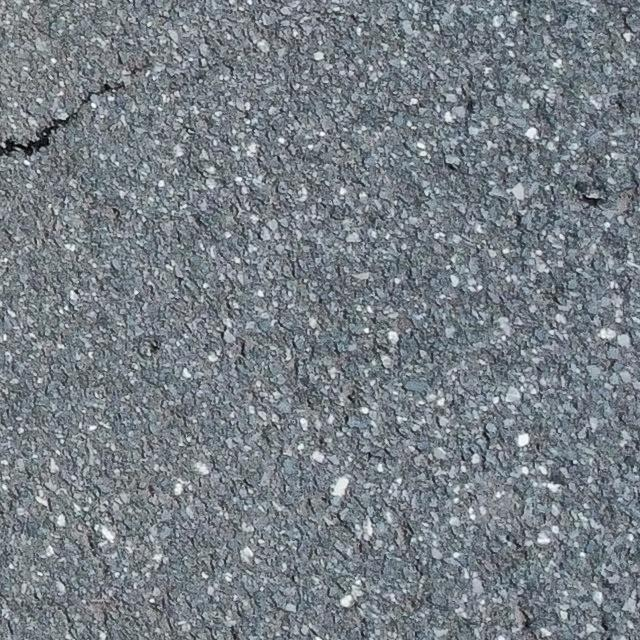TransverseCrack: (1, 80, 125, 155)
